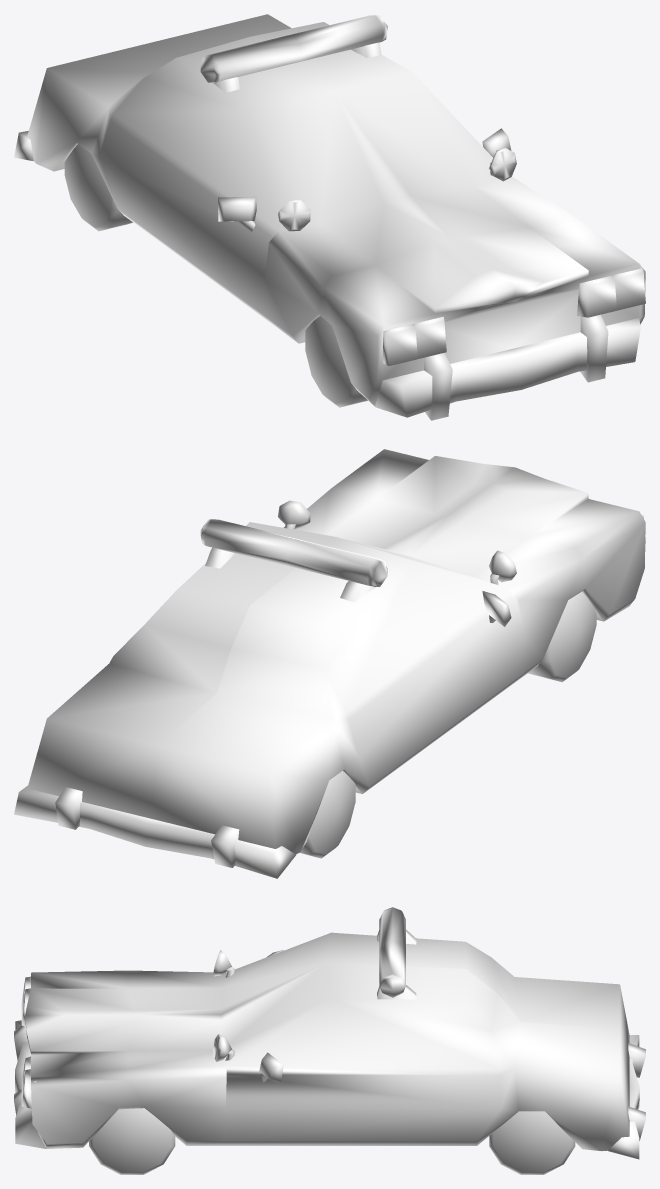
The model's file is policeCruiser02.glb.
3 views of the same model, one above another, from view 1: azimuth 30°, elevation 25°; view 2: azimuth 150°, elevation 25°; view 3: azimuth 270°, elevation 25° (orthographic). The views are drawn at different scales.
Parts seen in each view (by area): view 1: police_Cruiser_02; view 2: police_Cruiser_02; view 3: police_Cruiser_02.
Part boxes in pixels (x1,y1,x2,y2): police_Cruiser_02: (14,14,645,420); police_Cruiser_02: (14,449,645,878); police_Cruiser_02: (14,907,645,1174).
Bounding box in the file's own units: 2.18 × 1.63 × 5.01.
2 materials, 2 textured.
